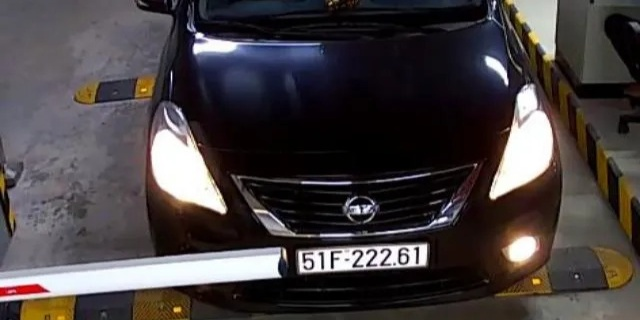bien_so: (296, 242, 427, 273)
